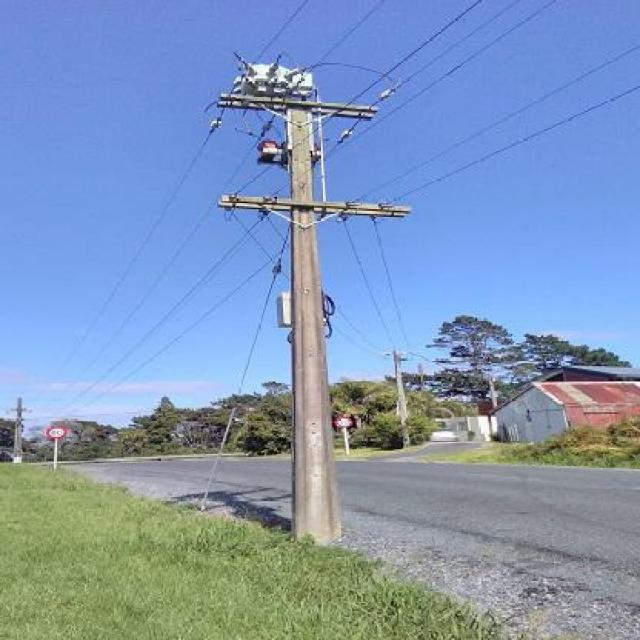pole: (212, 48, 416, 542)
